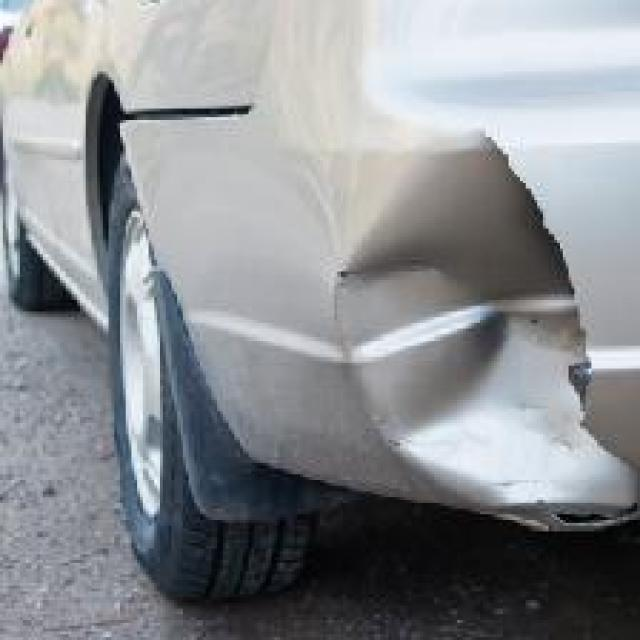damaged: (326, 112, 638, 537)
